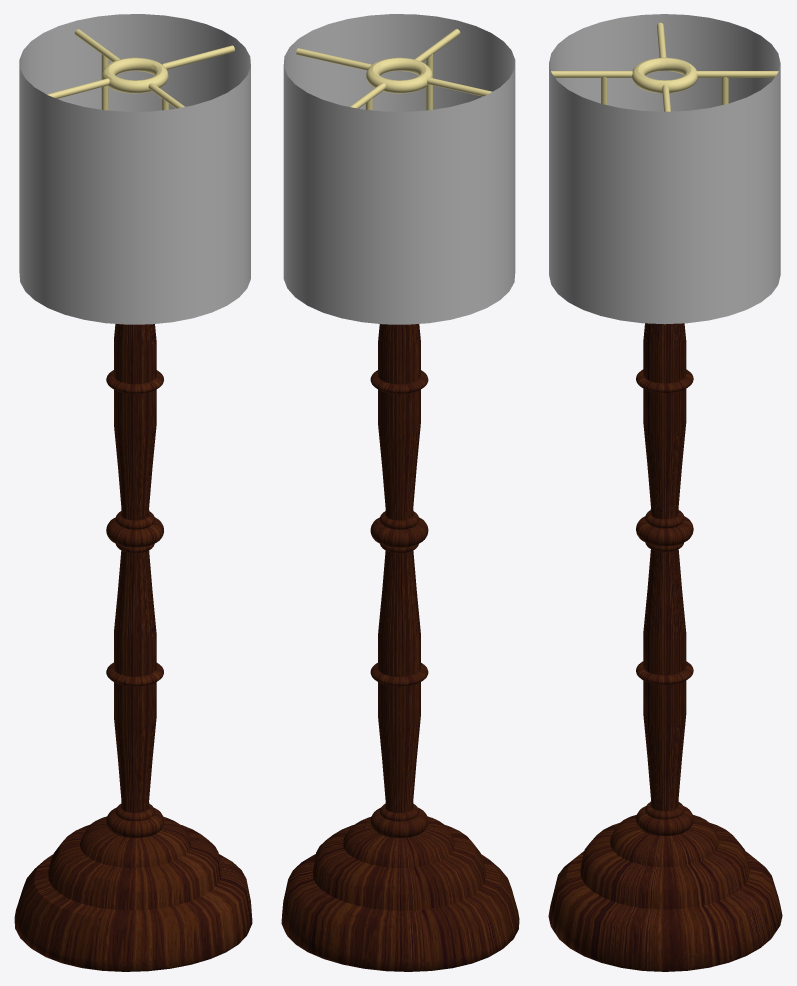
File: floorlampled.fbx
3 renders of one model, left to right at view 1: azimuth 30°, elevation 25°; view 2: azimuth 150°, elevation 25°; view 3: azimuth 270°, elevation 25°, orthographic.
Parts seen in each view (by area): view 1: Cylinder, Sphere, Cylinder.001; view 2: Cylinder, Sphere, Cylinder.001; view 3: Cylinder, Sphere, Cylinder.001.
Boxes of the visible parts, box(x1,y1,x2,y2) form: Cylinder: box(19, 14, 250, 324); Sphere: box(14, 324, 252, 971); Cylinder.001: box(47, 29, 234, 108); Cylinder: box(283, 14, 515, 324); Sphere: box(281, 324, 519, 971); Cylinder.001: box(296, 29, 492, 108); Cylinder: box(549, 14, 780, 324); Sphere: box(548, 323, 782, 971); Cylinder.001: box(551, 22, 778, 111).
Size of the model in its own units: 206 by 824 by 202.
